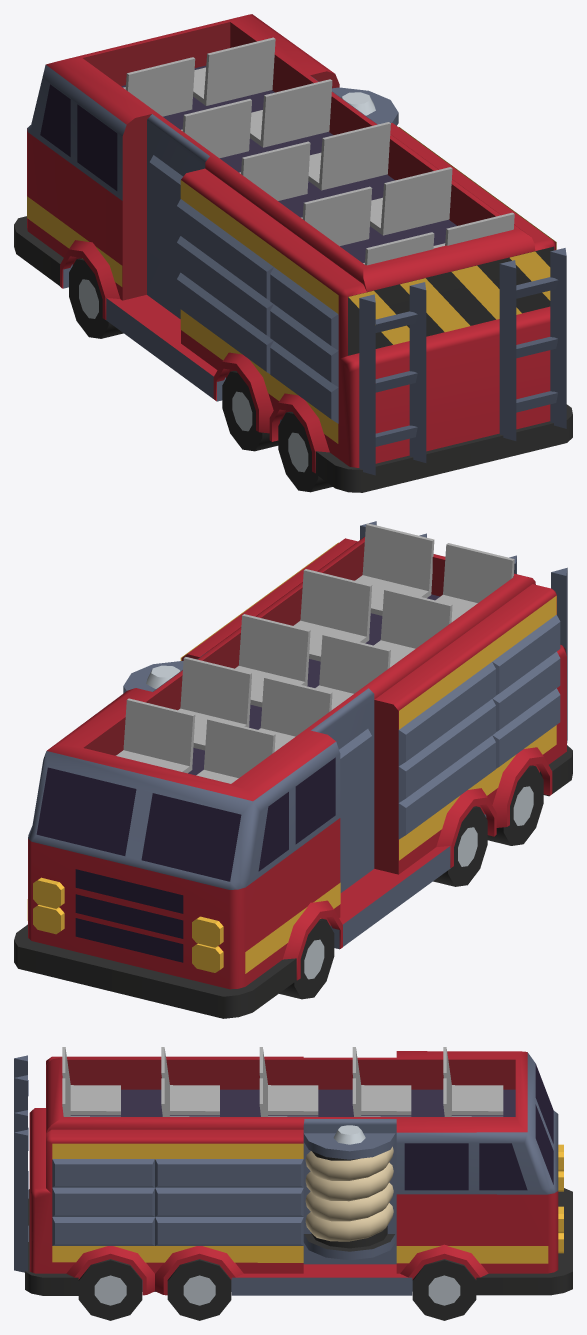
Rendered from FireCar_open.glb.
The picture shows the model from 3 angles, top to bottom: view 1: azimuth 30°, elevation 25°; view 2: azimuth 150°, elevation 25°; view 3: azimuth 270°, elevation 25°; orthographic projection. The views are drawn at different scales.
Visible parts, largest first — view 1: FireCar_open; view 2: FireCar_open; view 3: FireCar_open.
Boxes of the visible parts, bbox=[...] form: FireCar_open: bbox=[14, 14, 572, 492]; FireCar_open: bbox=[14, 521, 572, 1018]; FireCar_open: bbox=[14, 1047, 572, 1320].
Bounding box in the file's own units: 0.4245 × 0.4132 × 1.04.
